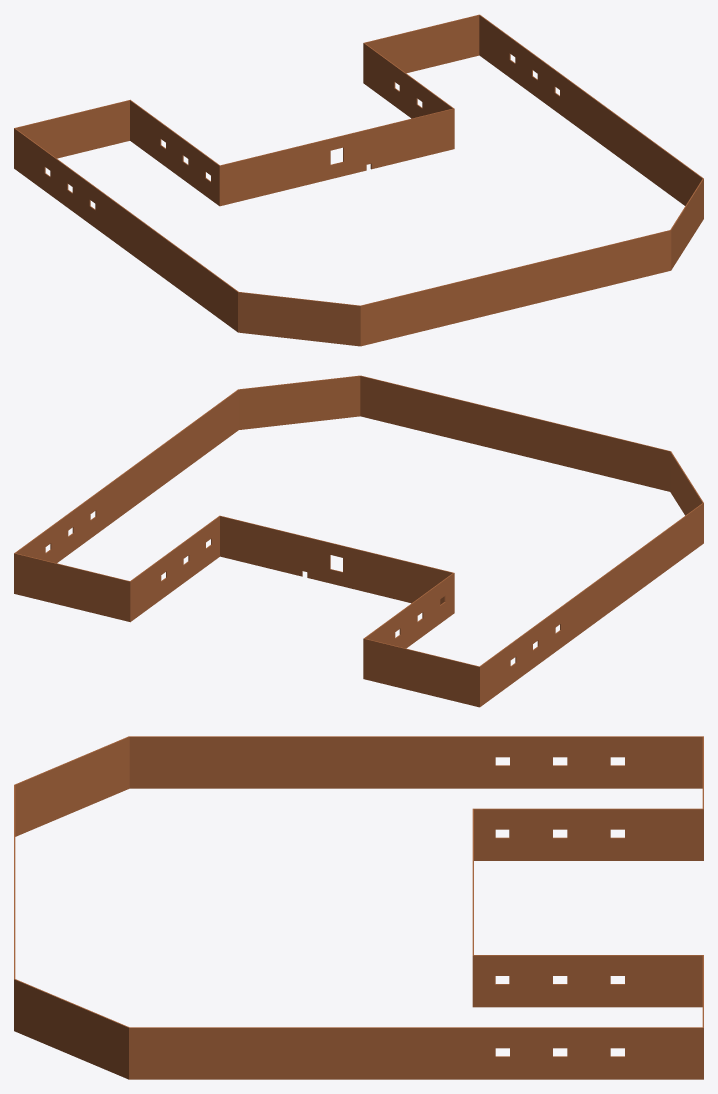
Rendered from ParedExteriorP1.fbx.
3 renders of one model, top to bottom at view 1: azimuth 30°, elevation 25°; view 2: azimuth 150°, elevation 25°; view 3: azimuth 270°, elevation 25°, orthographic. The views are drawn at different scales.
Visible parts, largest first — view 1: ParedExteriorP1Porsia; view 2: ParedExteriorP1Porsia; view 3: ParedExteriorP1Porsia.
Part boxes in pixels (x1=…): ParedExteriorP1Porsia: x1=14, y1=14, x2=703, y2=346; ParedExteriorP1Porsia: x1=14, y1=375, x2=703, y2=707; ParedExteriorP1Porsia: x1=14, y1=736, x2=703, y2=1079.
Size of the model in its own units: 4800 by 398 by 4800.
